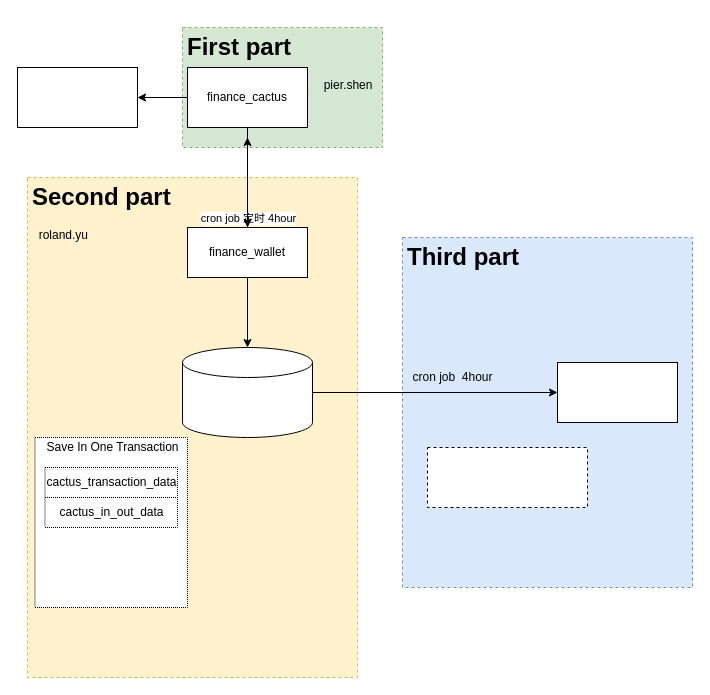
Image size: 710x695. Some labels were removed from this diagram. The centre of each missing label's shape, as x and y in pixels:
"Cactus平台API" belongs at [77,97].
"finance_ams" belongs at [247,392].
"transaction_task_mark" belongs at [507,477].
"上账" belongs at [617,392].
